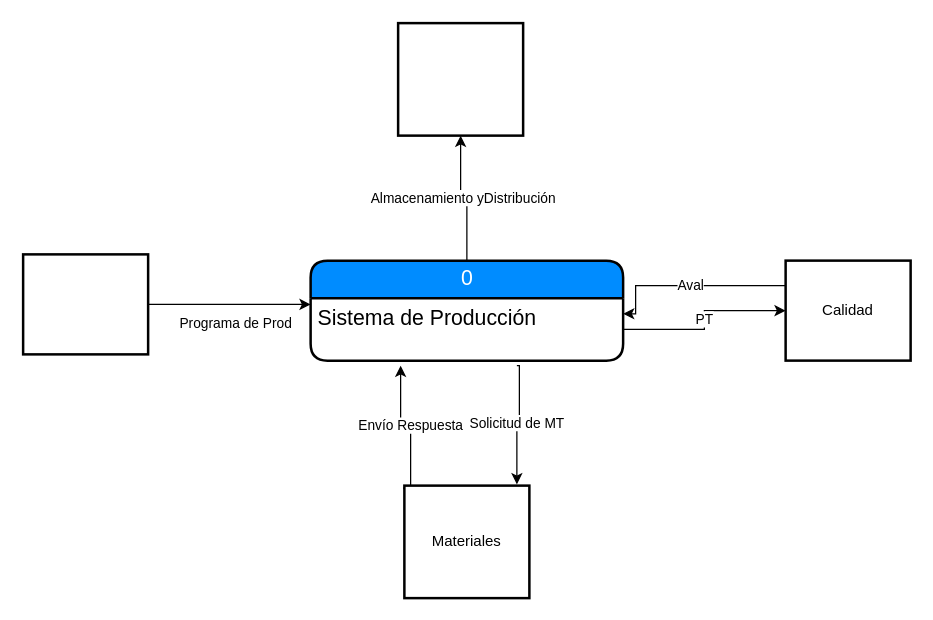
This 933x620 diagram has some shape labels left out. Each missing label, with the centre of its shape:
"Distribución CDN" belongs at (x=460, y=78).
"Planeación" belongs at (x=85, y=303).
